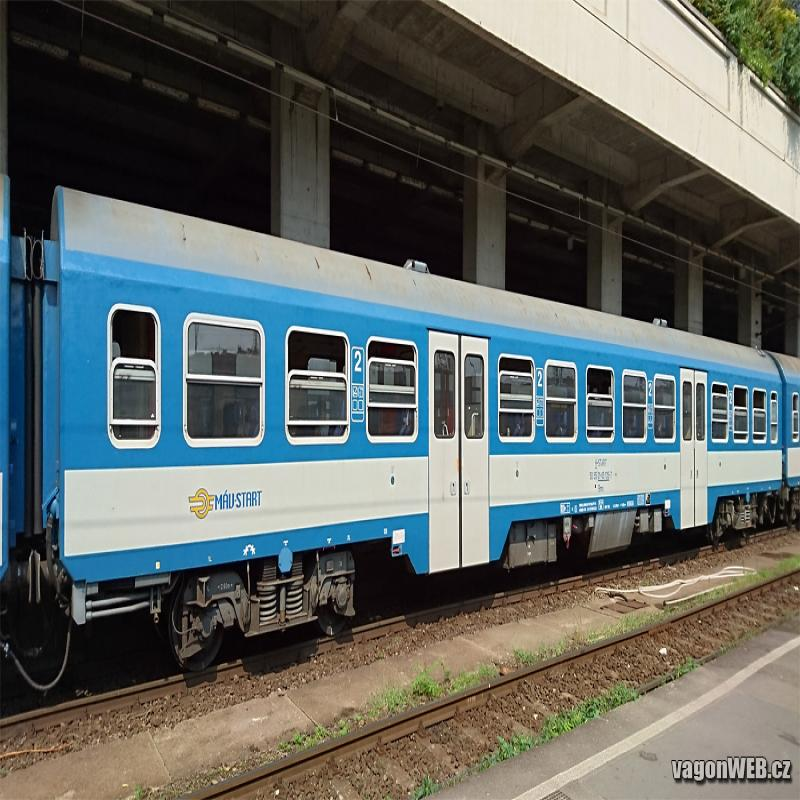train: (36, 187, 783, 704)
